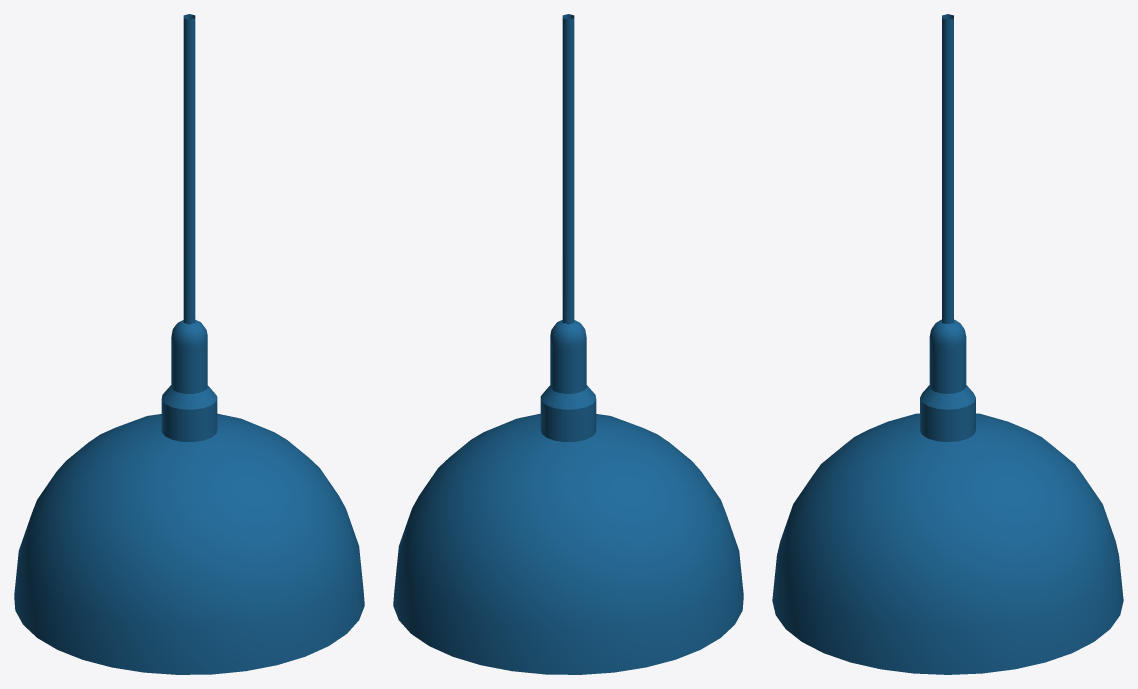
File: deng.FBX
The picture shows the model from 3 angles, left to right: view 1: azimuth 30°, elevation 25°; view 2: azimuth 150°, elevation 25°; view 3: azimuth 270°, elevation 25°; orthographic projection.
Parts seen in each view (by area): view 1: 灯; view 2: 灯; view 3: 灯.
Part boxes in pixels (bbox=[...]): 灯: bbox=[14, 14, 364, 674]; 灯: bbox=[393, 14, 743, 674]; 灯: bbox=[772, 14, 1123, 674].
Bounding box in the file's own units: 61.76 × 118 × 61.76.
